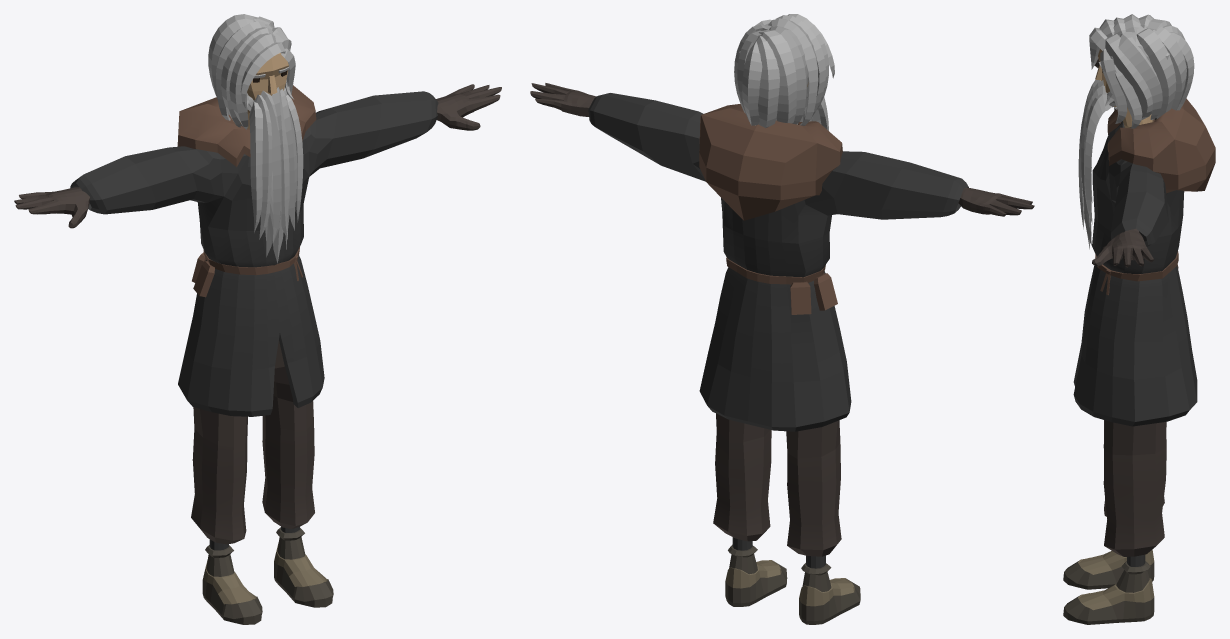
The model's file is Grisha_delete.fbx.
The picture shows the model from 3 angles, left to right: view 1: azimuth 30°, elevation 25°; view 2: azimuth 150°, elevation 25°; view 3: azimuth 270°, elevation 25°; orthographic projection. The views are drawn at different scales.
Visible parts, largest first — view 1: Top, Old_Legs, Beard_seredina1; view 2: Top, Old_Legs, Beard_seredina1; view 3: Top, Old_Legs, Beard_seredina1.
Boxes of the visible parts, x1,y1,x2,y2 form: Top: (14, 84, 501, 416); Old_Legs: (191, 340, 333, 624); Beard_seredina1: (208, 14, 303, 263); Top: (530, 83, 1034, 431); Old_Legs: (713, 413, 860, 624); Beard_seredina1: (734, 14, 834, 130); Top: (1073, 58, 1215, 426); Old_Legs: (1063, 420, 1166, 624); Beard_seredina1: (1078, 14, 1194, 249).
Bounding box in the file's own units: 168 × 188 × 44.74.
